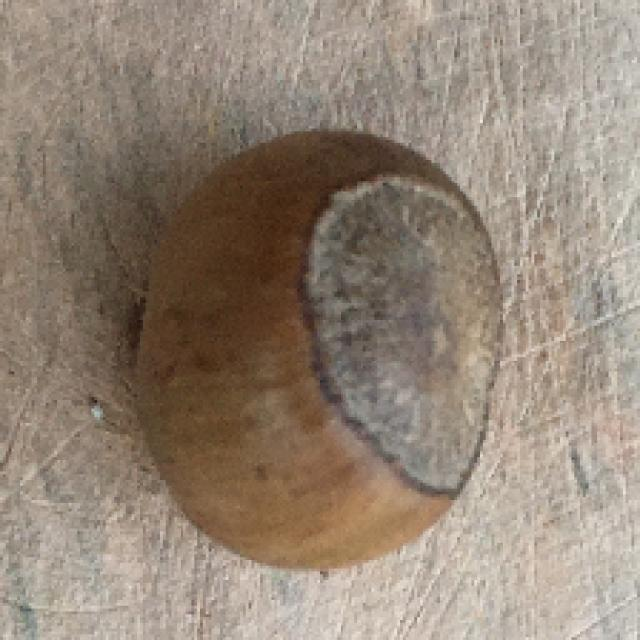qualityHazelnut: (130, 123, 498, 570)
